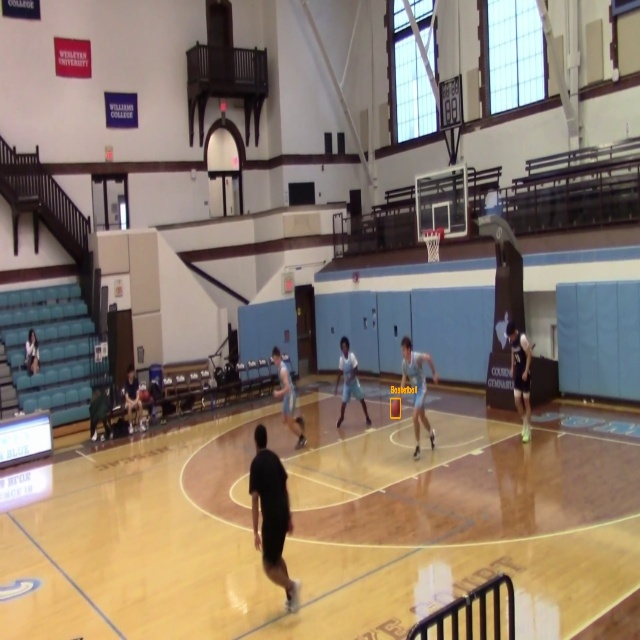Basketball: (391, 399, 400, 418)
